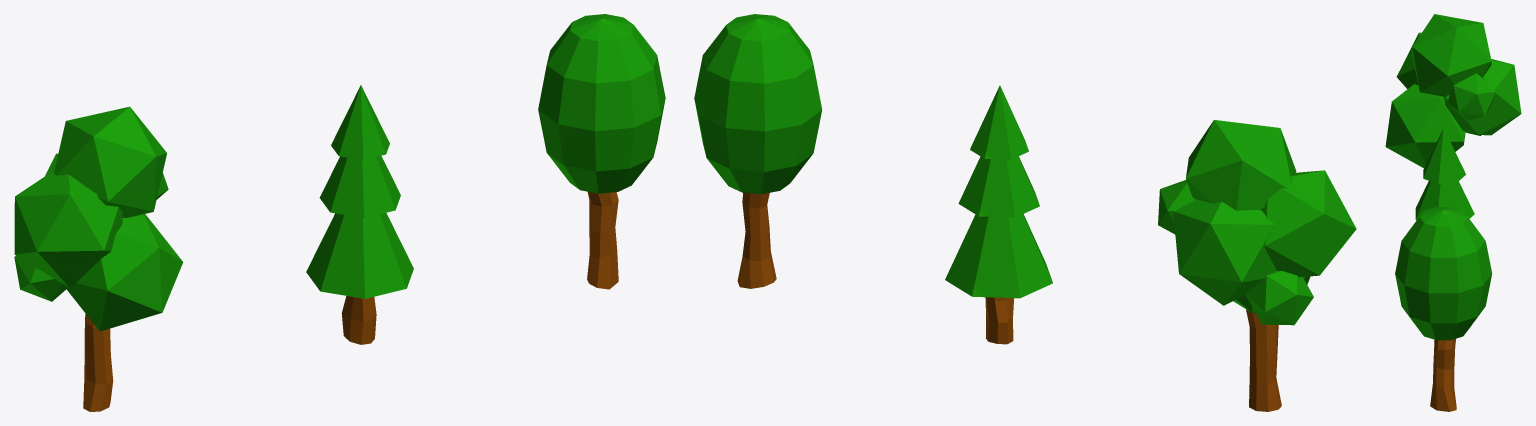
The model's file is TREES.fbx.
The picture shows the model from 3 angles, left to right: view 1: azimuth 30°, elevation 25°; view 2: azimuth 150°, elevation 25°; view 3: azimuth 270°, elevation 25°; orthographic projection. The views are drawn at different scales.
Visible parts, largest first — view 1: tree1, tree2, tree3, tree2TOP; view 2: tree1, tree2, tree3, tree2TOP; view 3: tree1, tree2, tree3, tree2TOP.
Boxes of the visible parts, <box> form: tree1: <box>14,106,183,411</box>; tree2: <box>538,14,665,193</box>; tree3: <box>306,85,413,344</box>; tree2TOP: <box>587,191,618,289</box>; tree1: <box>1158,120,1356,411</box>; tree2: <box>694,14,822,194</box>; tree3: <box>945,85,1052,344</box>; tree2TOP: <box>737,192,776,288</box>; tree1: <box>1385,14,1521,167</box>; tree2: <box>1395,207,1492,340</box>; tree3: <box>1415,128,1474,220</box>; tree2TOP: <box>1430,339,1456,411</box>.
Bounding box in the file's own units: 1954 × 832 × 487.
